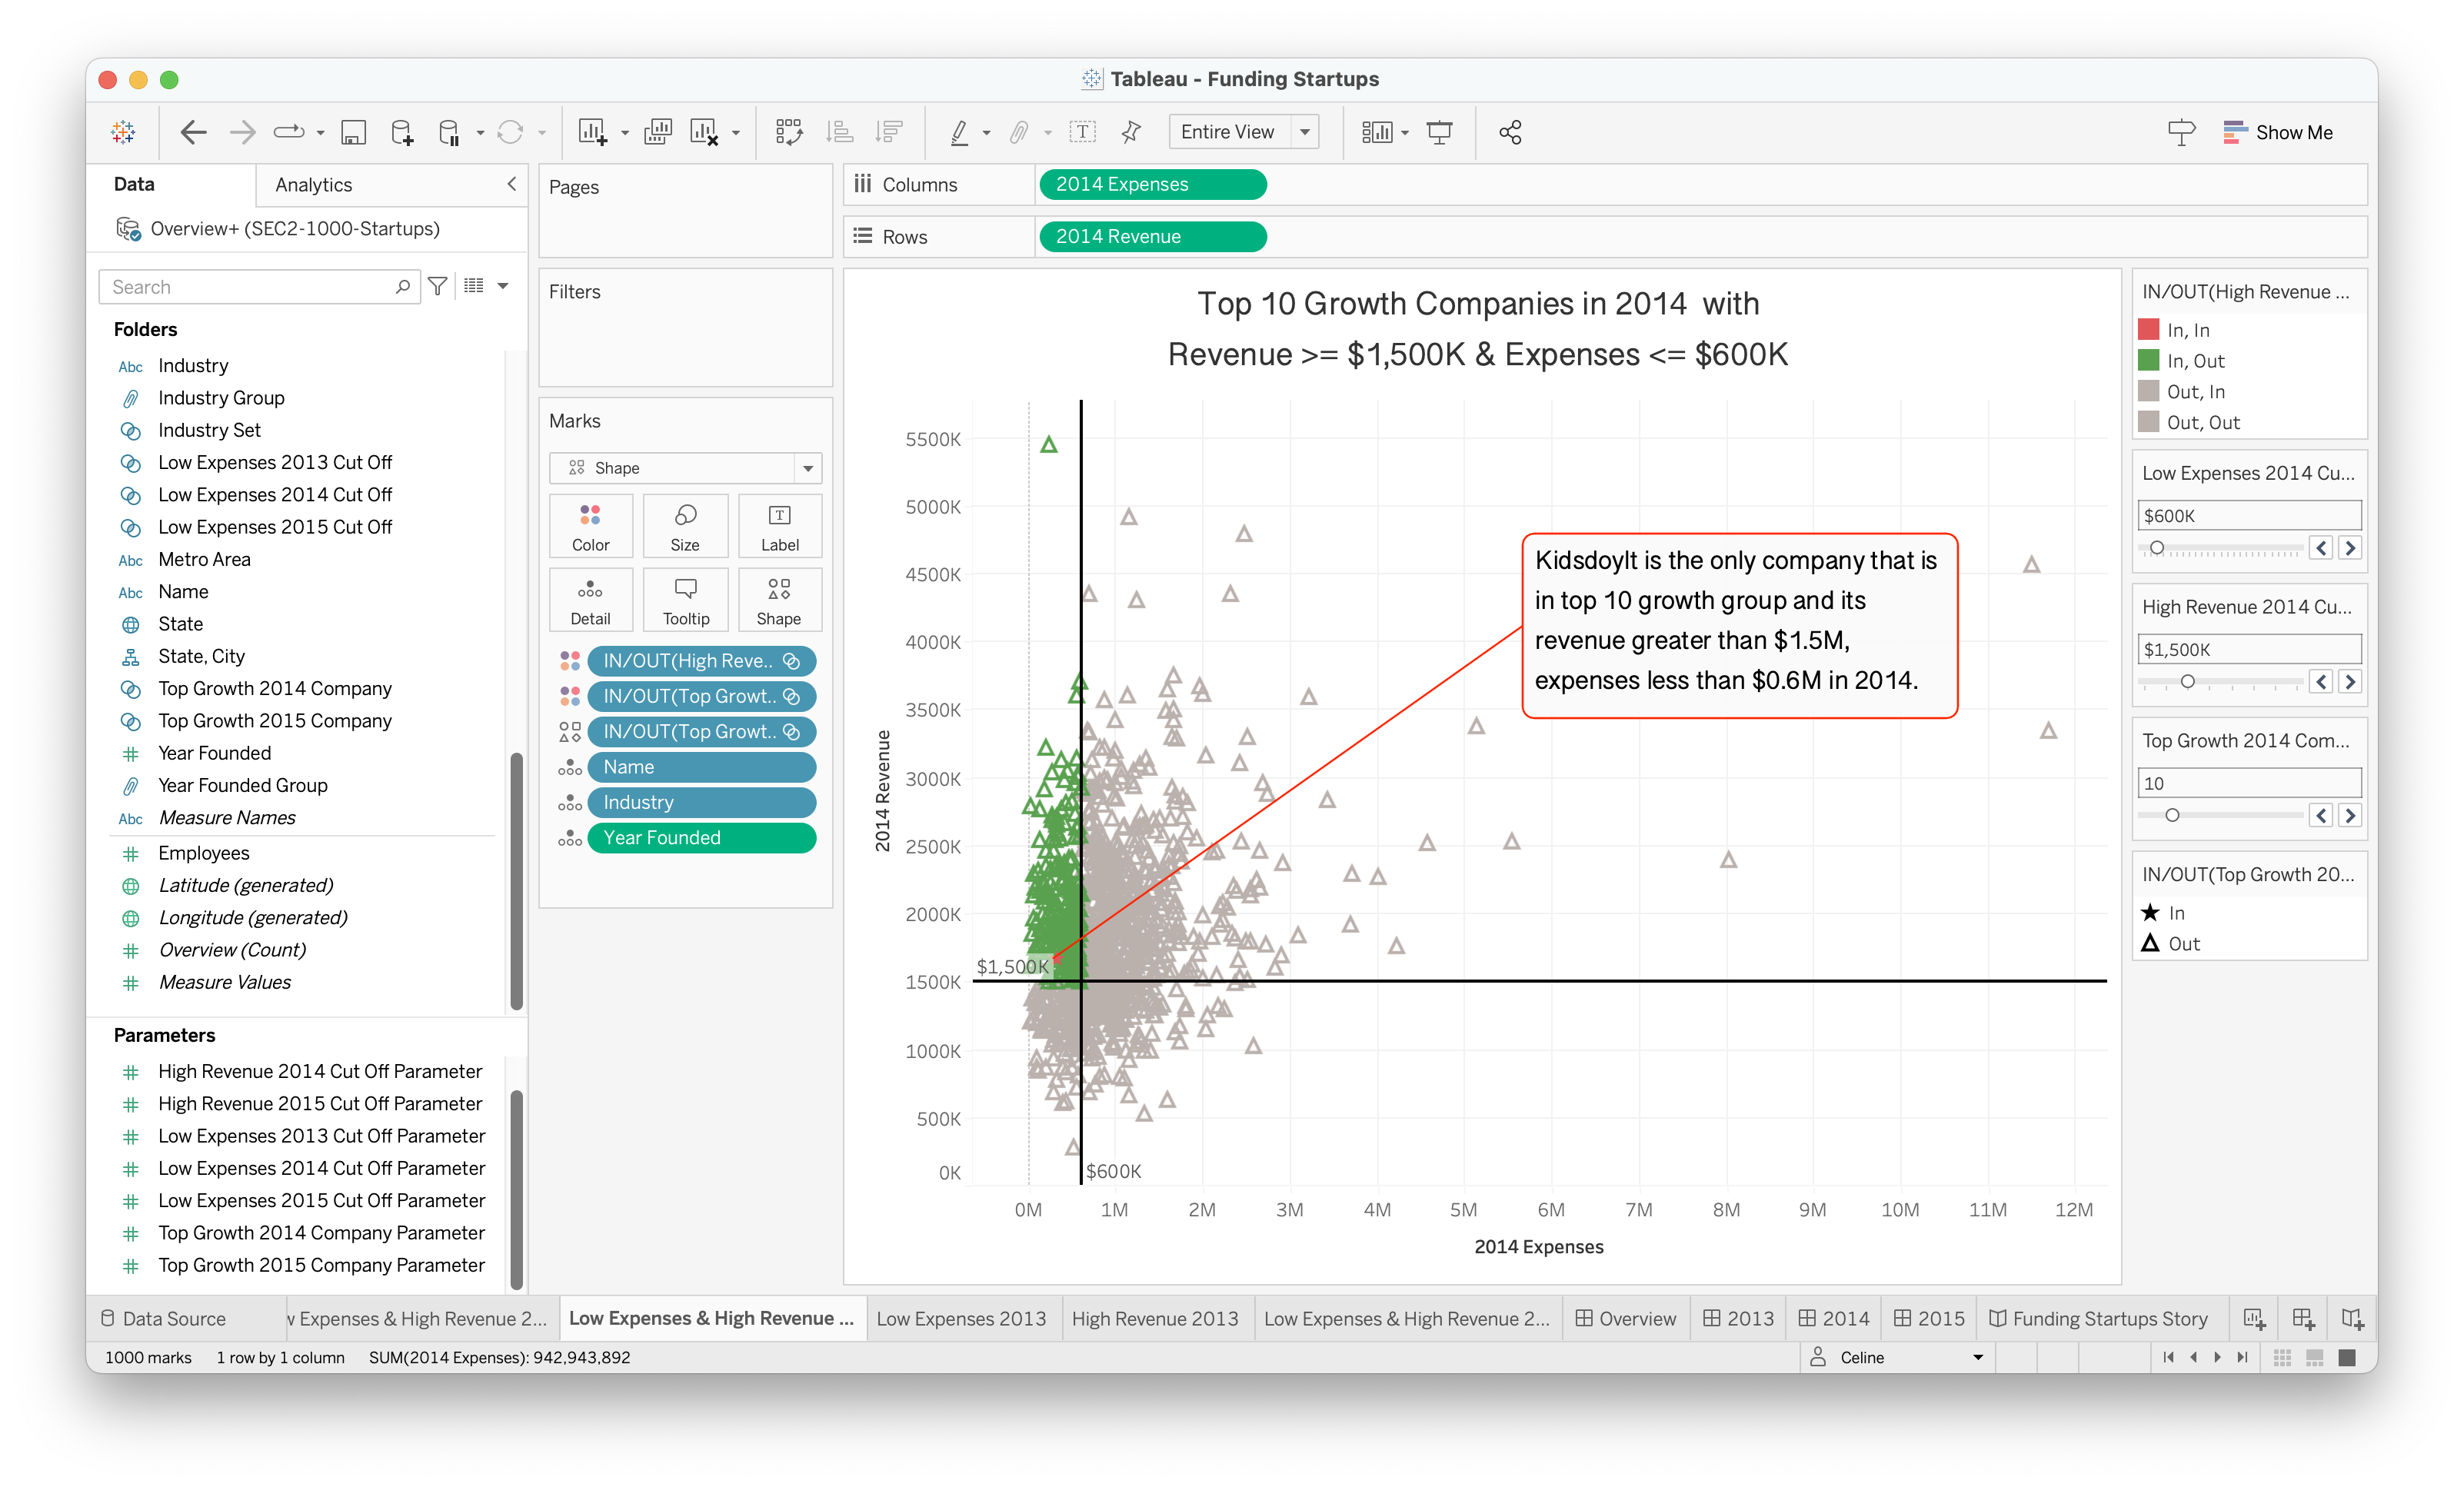

What the dashboard file says about the page in this screenshot:
{"tool":"tableau","page":{"name":"2014","canvas":[1000,800],"ordinal":1},"visuals":[{"type":"text","box":[8,8,984,62]},{"type":"parameter","param":"[Parameters].[Low Expenses 2014 Cut Off Parameter]","box":[8,95,328,75]},{"type":"parameter","param":"[Parameters].[High Revenue 2014 Cut Off Parameter]","box":[336,95,328,75]},{"type":"parameter","param":"[Parameters].[Top Growth 2014 Company Parameter]","box":[664,95,328,75]},{"type":"worksheet","title":"Low Expenses & High Revenue & Top Growth 2014","mark":"Shape","rows":["2014 Revenue"],"cols":["2014 Expenses"],"box":[8,170,608,622]},{"type":"worksheet","title":"Top Growth 2014","mark":"Bar","rows":["2014 Growth %","2014 Growth %"],"cols":["Name"],"box":[616,170,376,622]}]}

Visuals, with their boxes on the page's 1000x800 design canvas (x1, y1, x2, y2). These are canvas units, not pixel positions in the 2464x1487 screenshot, which may show the page scaled, cropped or inside an application window:
text: [8, 8, 992, 70]
parameter: [8, 95, 336, 170]
parameter: [336, 95, 664, 170]
parameter: [664, 95, 992, 170]
"Low Expenses & High Revenue & Top Growth 2014" worksheet (Shape marks): [8, 170, 616, 792]
"Top Growth 2014" worksheet (Bar marks): [616, 170, 992, 792]
